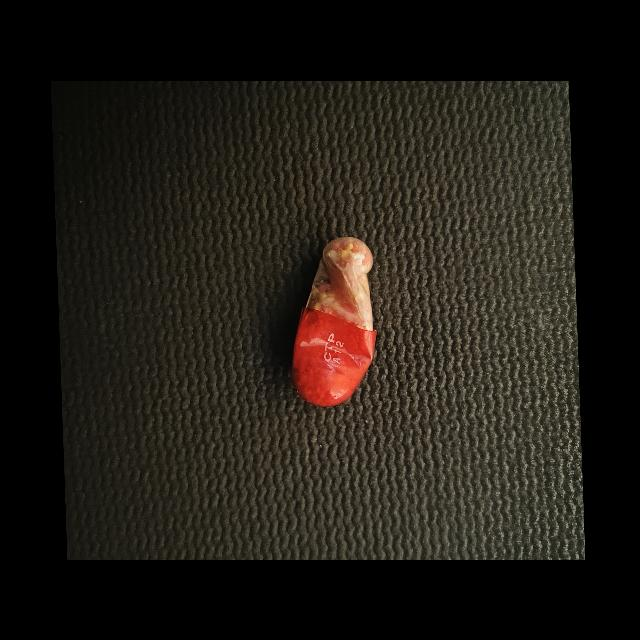Defective Capsule: (292, 236, 377, 406)
